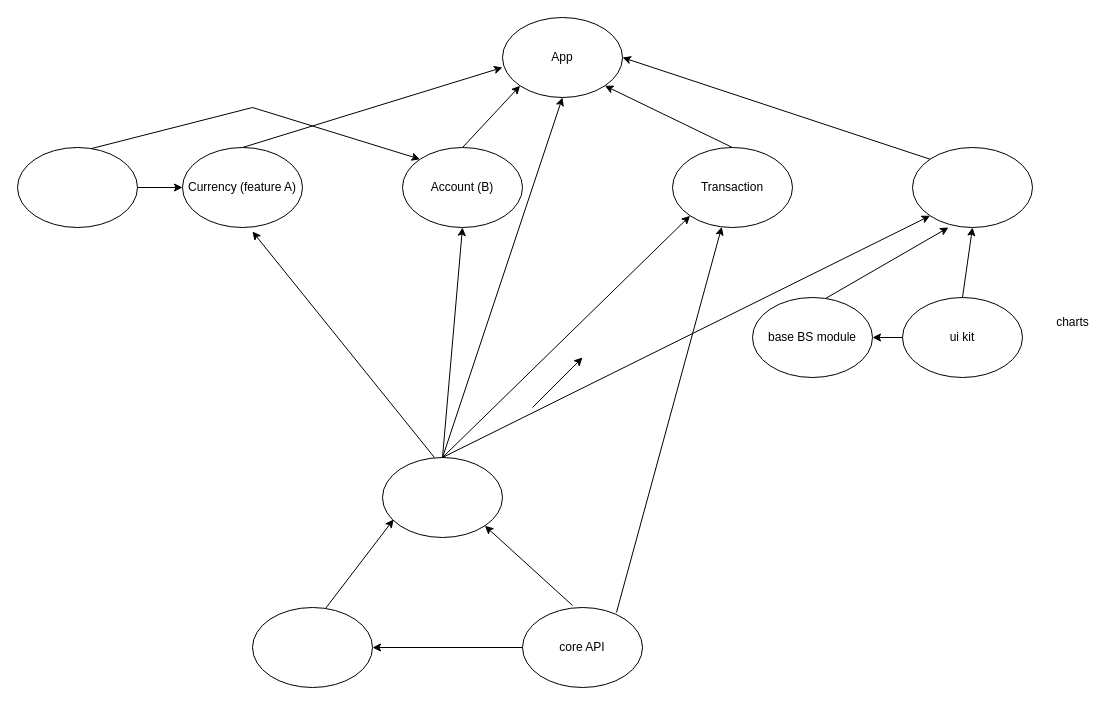
Some shapes in this 1120 by 705 pixel diagram are drawn without their labels. The box of each missing label's shape, as (x1, y1, x2, y2) in pixels:
"Top expences" report: (912, 146, 1032, 228)
core factory: (382, 456, 502, 538)
core impl: (252, 606, 372, 688)
Currency API: (16, 146, 138, 228)
